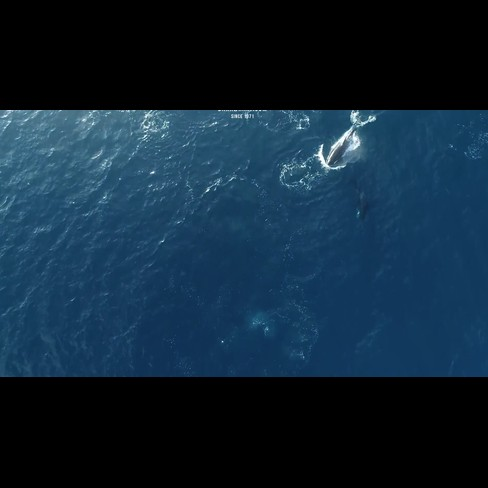orca: (315, 108, 362, 191), (347, 174, 375, 229)
